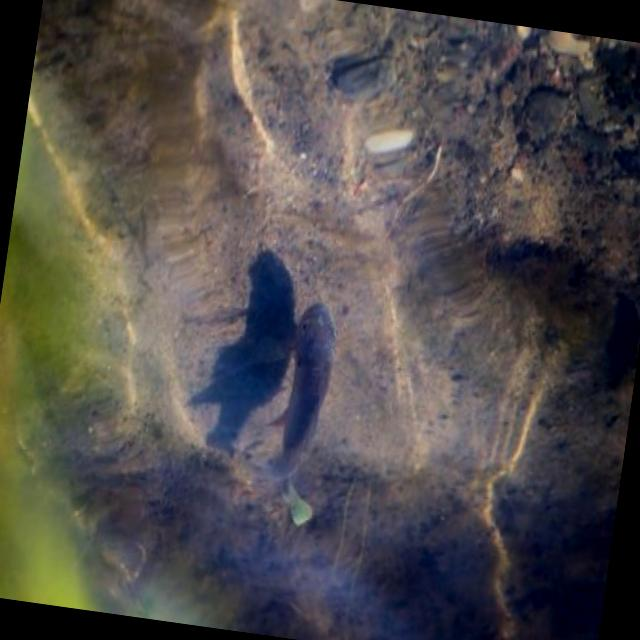Gunes Levregi: (260, 289, 357, 534)
